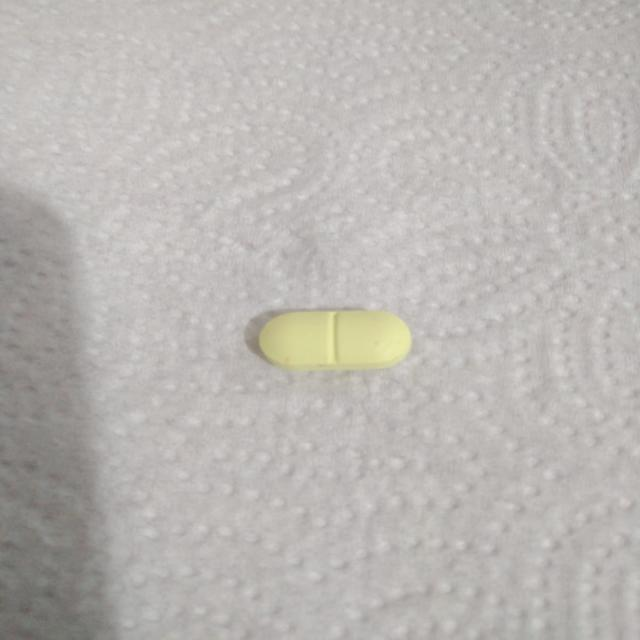pills: (242, 291, 432, 382)
